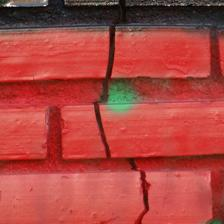Crack: (90, 5, 134, 160), (126, 155, 155, 223)
